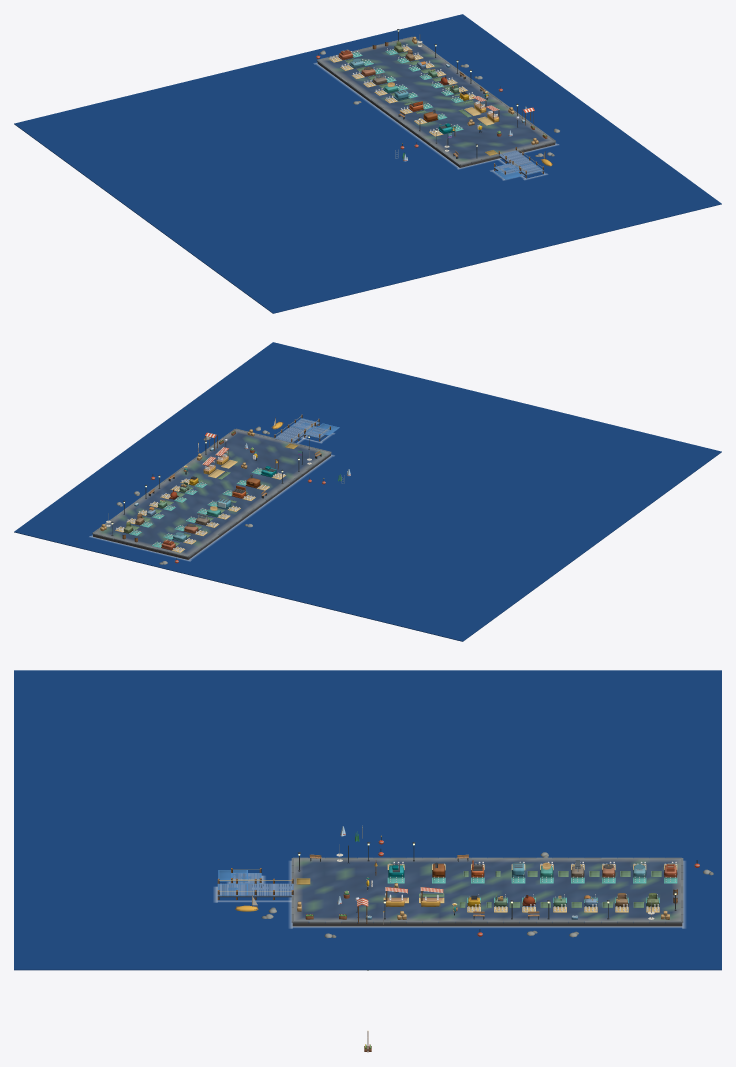
The model's file is cobalt_sound_blockout.glb.
3 views of the same model, one above another, from view 1: azimuth 30°, elevation 25°; view 2: azimuth 150°, elevation 25°; view 3: azimuth 270°, elevation 25° (orthographic). The views are drawn at different scales.
Visible parts, largest first — view 1: Water, Ground_cb_land, Ground_cb_pier, Foam; view 2: Water, Ground_cb_land, Foam, Ground_cb_pier; view 3: Water, Ground_cb_land, Foam, Ground_cb_pier.
Boxes of the visible parts, <box> form: Water: <box>14,14,721,313</box>; Ground_cb_land: <box>316,36,555,167</box>; Ground_cb_pier: <box>498,147,544,177</box>; Foam: <box>314,63,558,180</box>; Water: <box>14,342,721,641</box>; Ground_cb_land: <box>92,428,331,559</box>; Foam: <box>89,433,334,561</box>; Ground_cb_pier: <box>274,414,319,442</box>; Water: <box>14,670,721,970</box>; Ground_cb_land: <box>291,857,683,926</box>; Foam: <box>214,861,685,928</box>; Ground_cb_pier: <box>217,878,293,899</box>.
Bounding box in the file's own units: 80 × 22.44 × 80.
